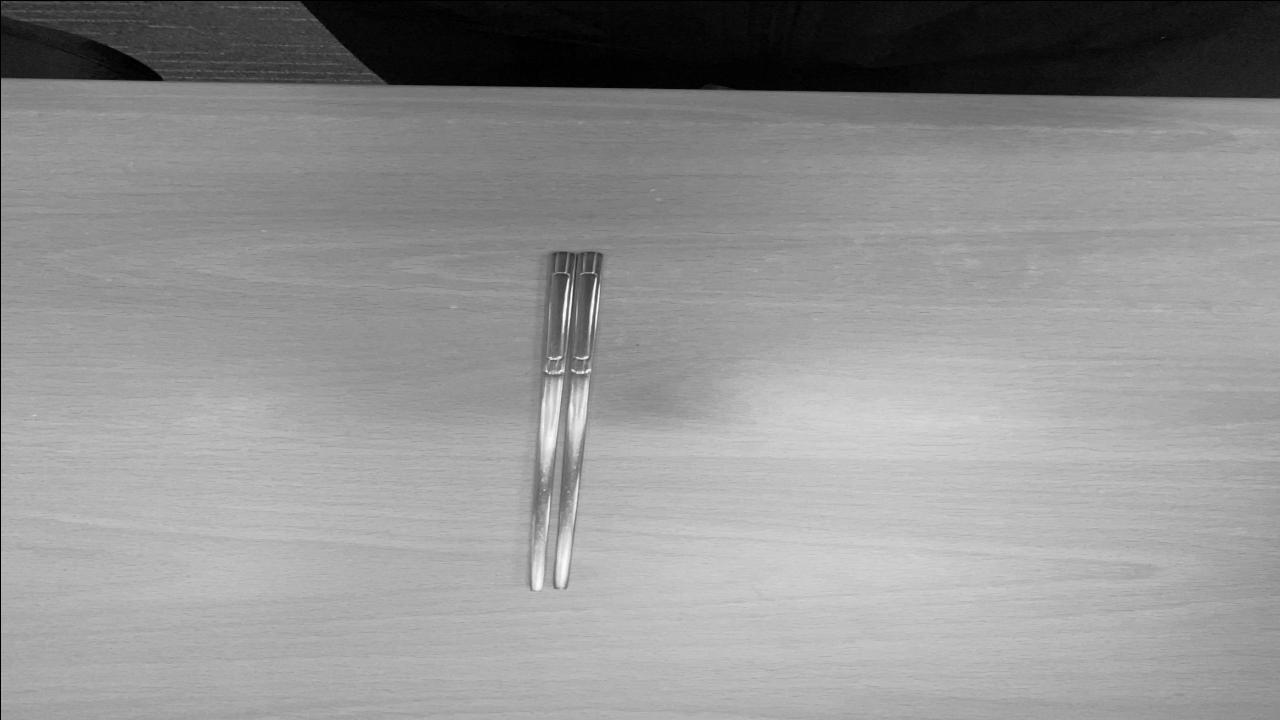chopstick: (518, 248, 616, 594)
